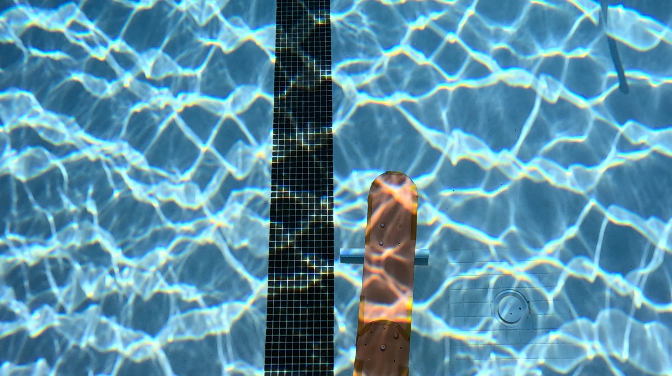pathmarker: (352, 171, 415, 374)
